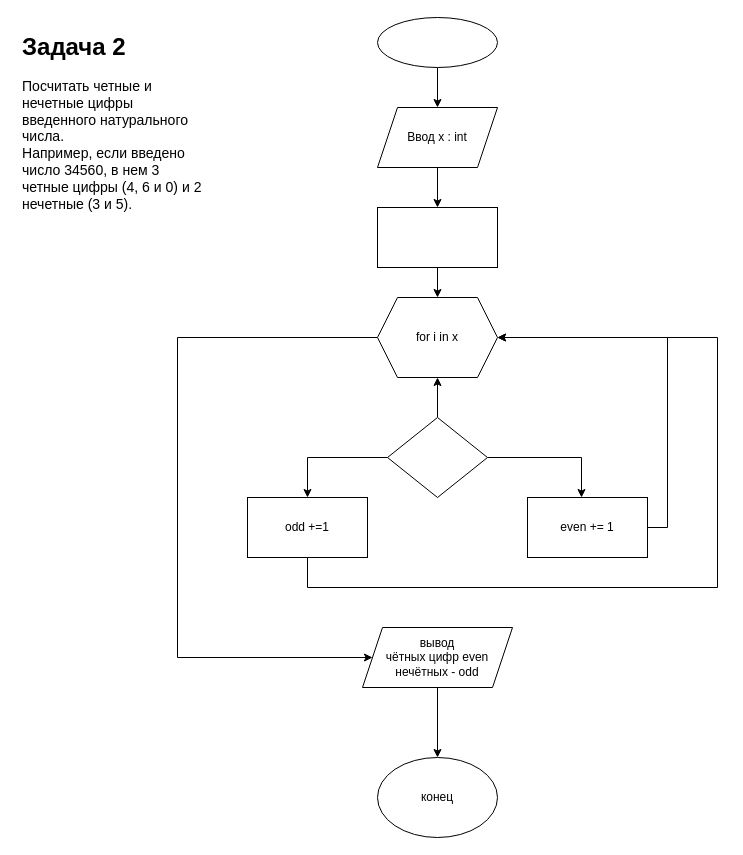
Some shapes in this 743 by 855 pixel diagram are drawn without their labels. Here are the shapes that lost their labels. From the top down, the centre of each, then its label:
At [437,42]: "начало".
At [437,237]: "odd = 0 even = 0".
At [437,457]: "int(i) % 2 == 0".
